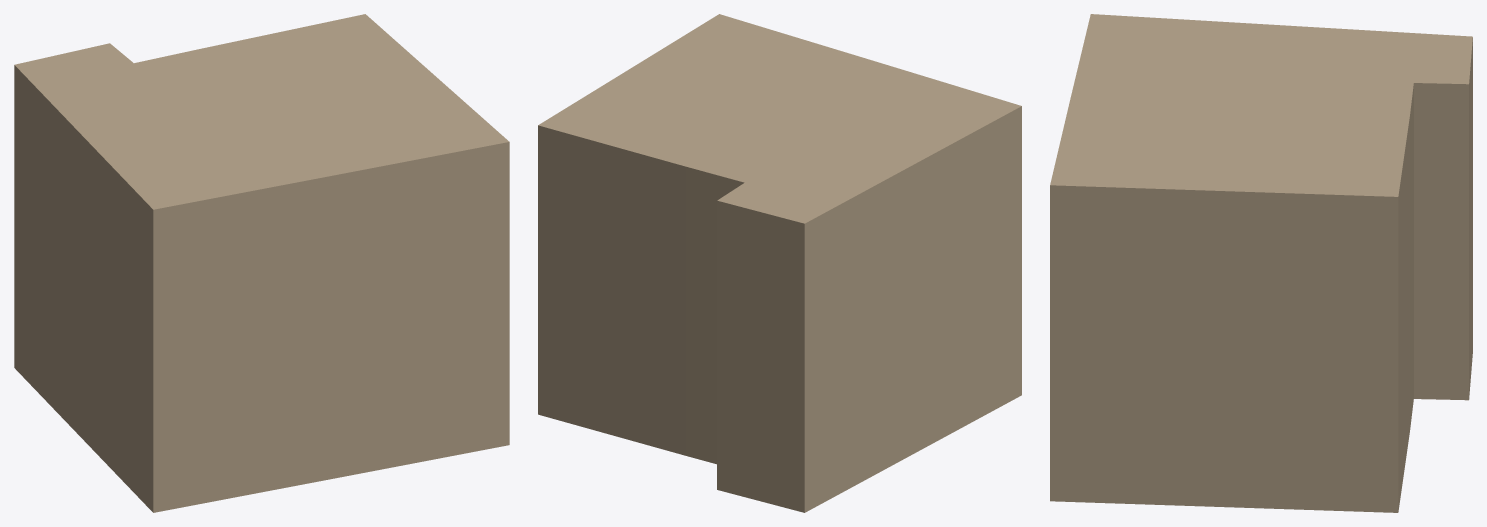
The model's file is bld_98821436.dae.
3 renders of one model, left to right at view 1: azimuth 30°, elevation 25°; view 2: azimuth 150°, elevation 25°; view 3: azimuth 270°, elevation 25°, orthographic. The views are drawn at different scales.
Parts seen in each view (by area): view 1: Maldon Books; view 2: Maldon Books; view 3: Maldon Books.
Part boxes in pixels (x1,y1,x2,y2): Maldon Books: (14,14,509,512); Maldon Books: (538,14,1021,512); Maldon Books: (1050,14,1472,512).
Size of the model in its own units: 9.93 by 9.7 by 8.
